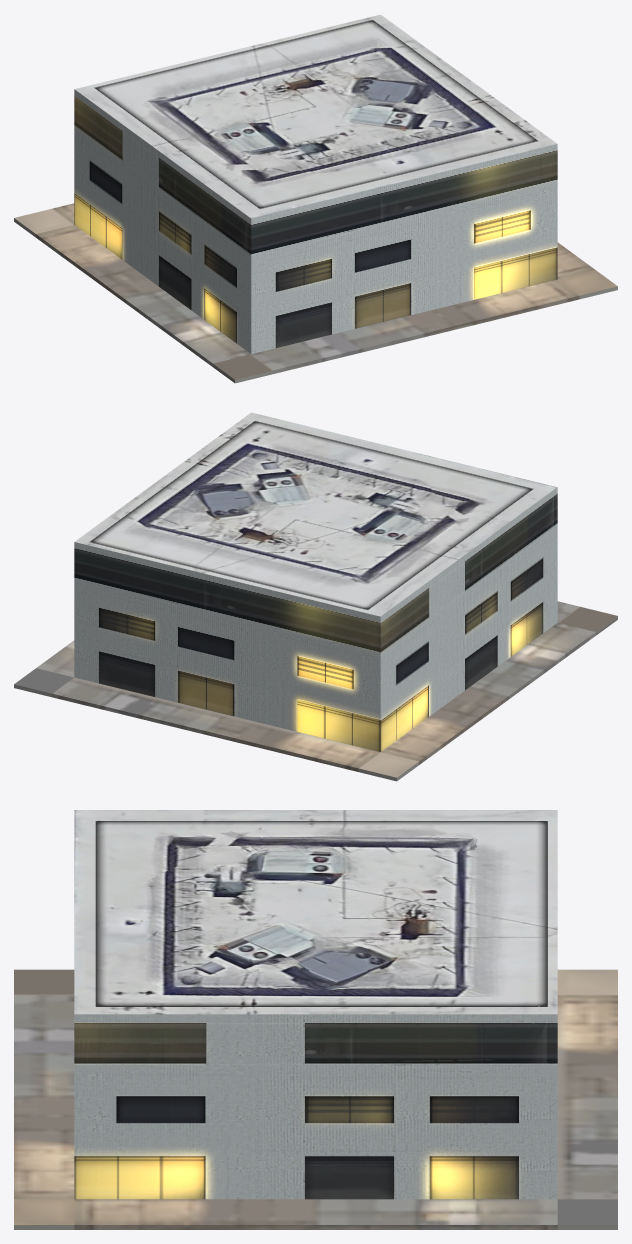
File: Building2_1x1.fbx
3 views of the same model, one above another, from view 1: azimuth 30°, elevation 25°; view 2: azimuth 150°, elevation 25°; view 3: azimuth 270°, elevation 25° (orthographic). The views are drawn at different scales.
Parts seen in each view (by area): view 1: Building_4; view 2: Building_4; view 3: Building_4.
Boxes of the visible parts, x1,y1,x2,y2 form: Building_4: (14, 14, 617, 383); Building_4: (14, 412, 617, 781); Building_4: (14, 810, 617, 1229).
Bounding box in the file's own units: 10 × 3.48 × 10.
